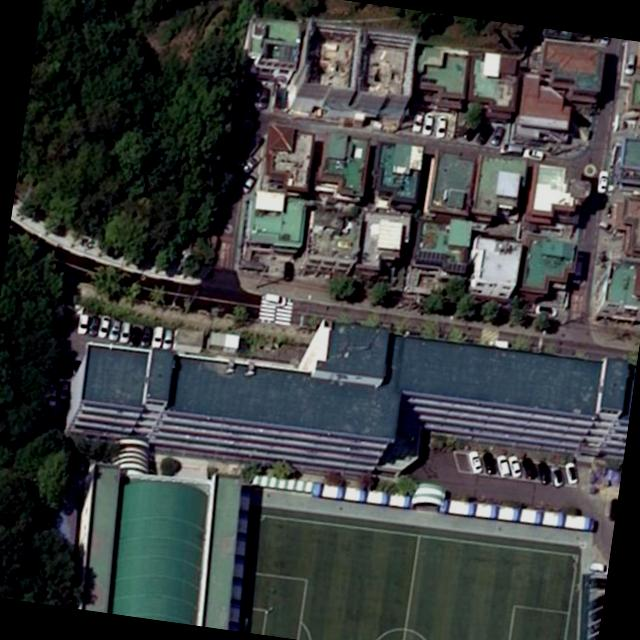solar: (417, 247, 451, 265), (445, 260, 469, 275)
